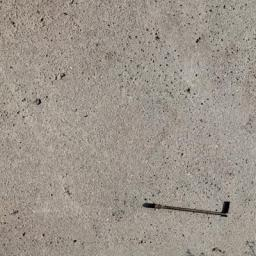FOD: (142, 193, 233, 222)
